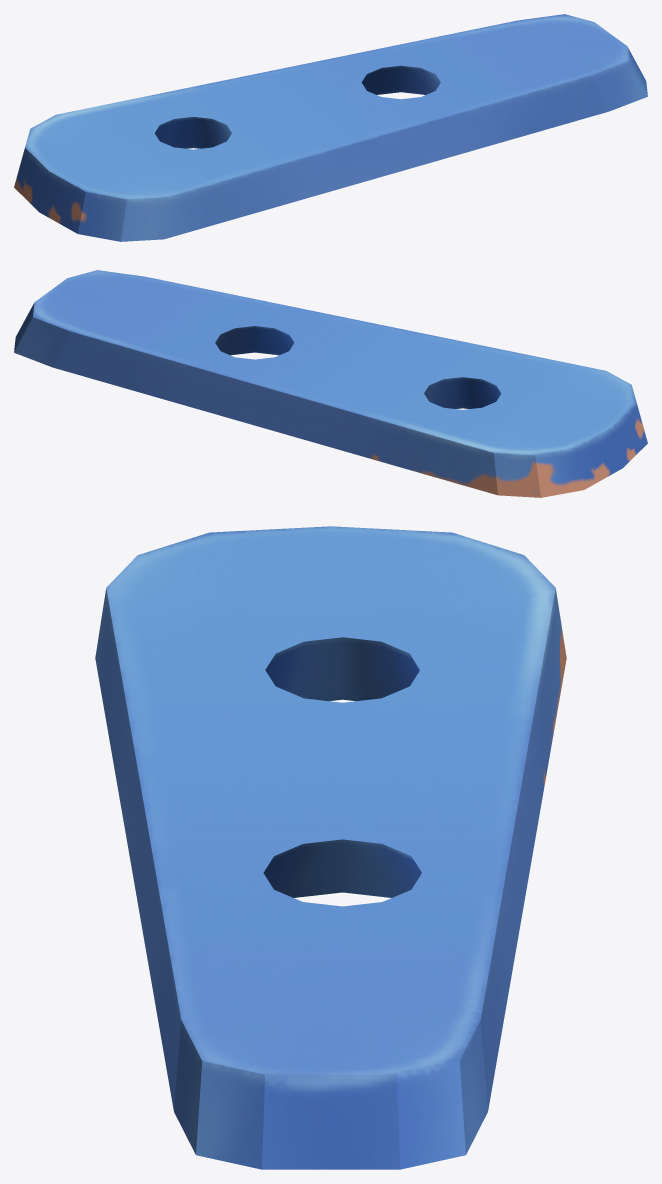
Rendered from zhishengji09.FBX.
3 renders of one model, top to bottom at view 1: azimuth 30°, elevation 25°; view 2: azimuth 150°, elevation 25°; view 3: azimuth 270°, elevation 25°, orthographic. The views are drawn at different scales.
Visible parts, largest first — view 1: zhishengji09; view 2: zhishengji09; view 3: zhishengji09.
Part boxes in pixels (x1,y1,x2,y2): zhishengji09: (14, 14, 647, 241); zhishengji09: (14, 270, 647, 497); zhishengji09: (95, 526, 566, 1169).
Size of the model in its own units: 39 by 2.44 by 13.5.
